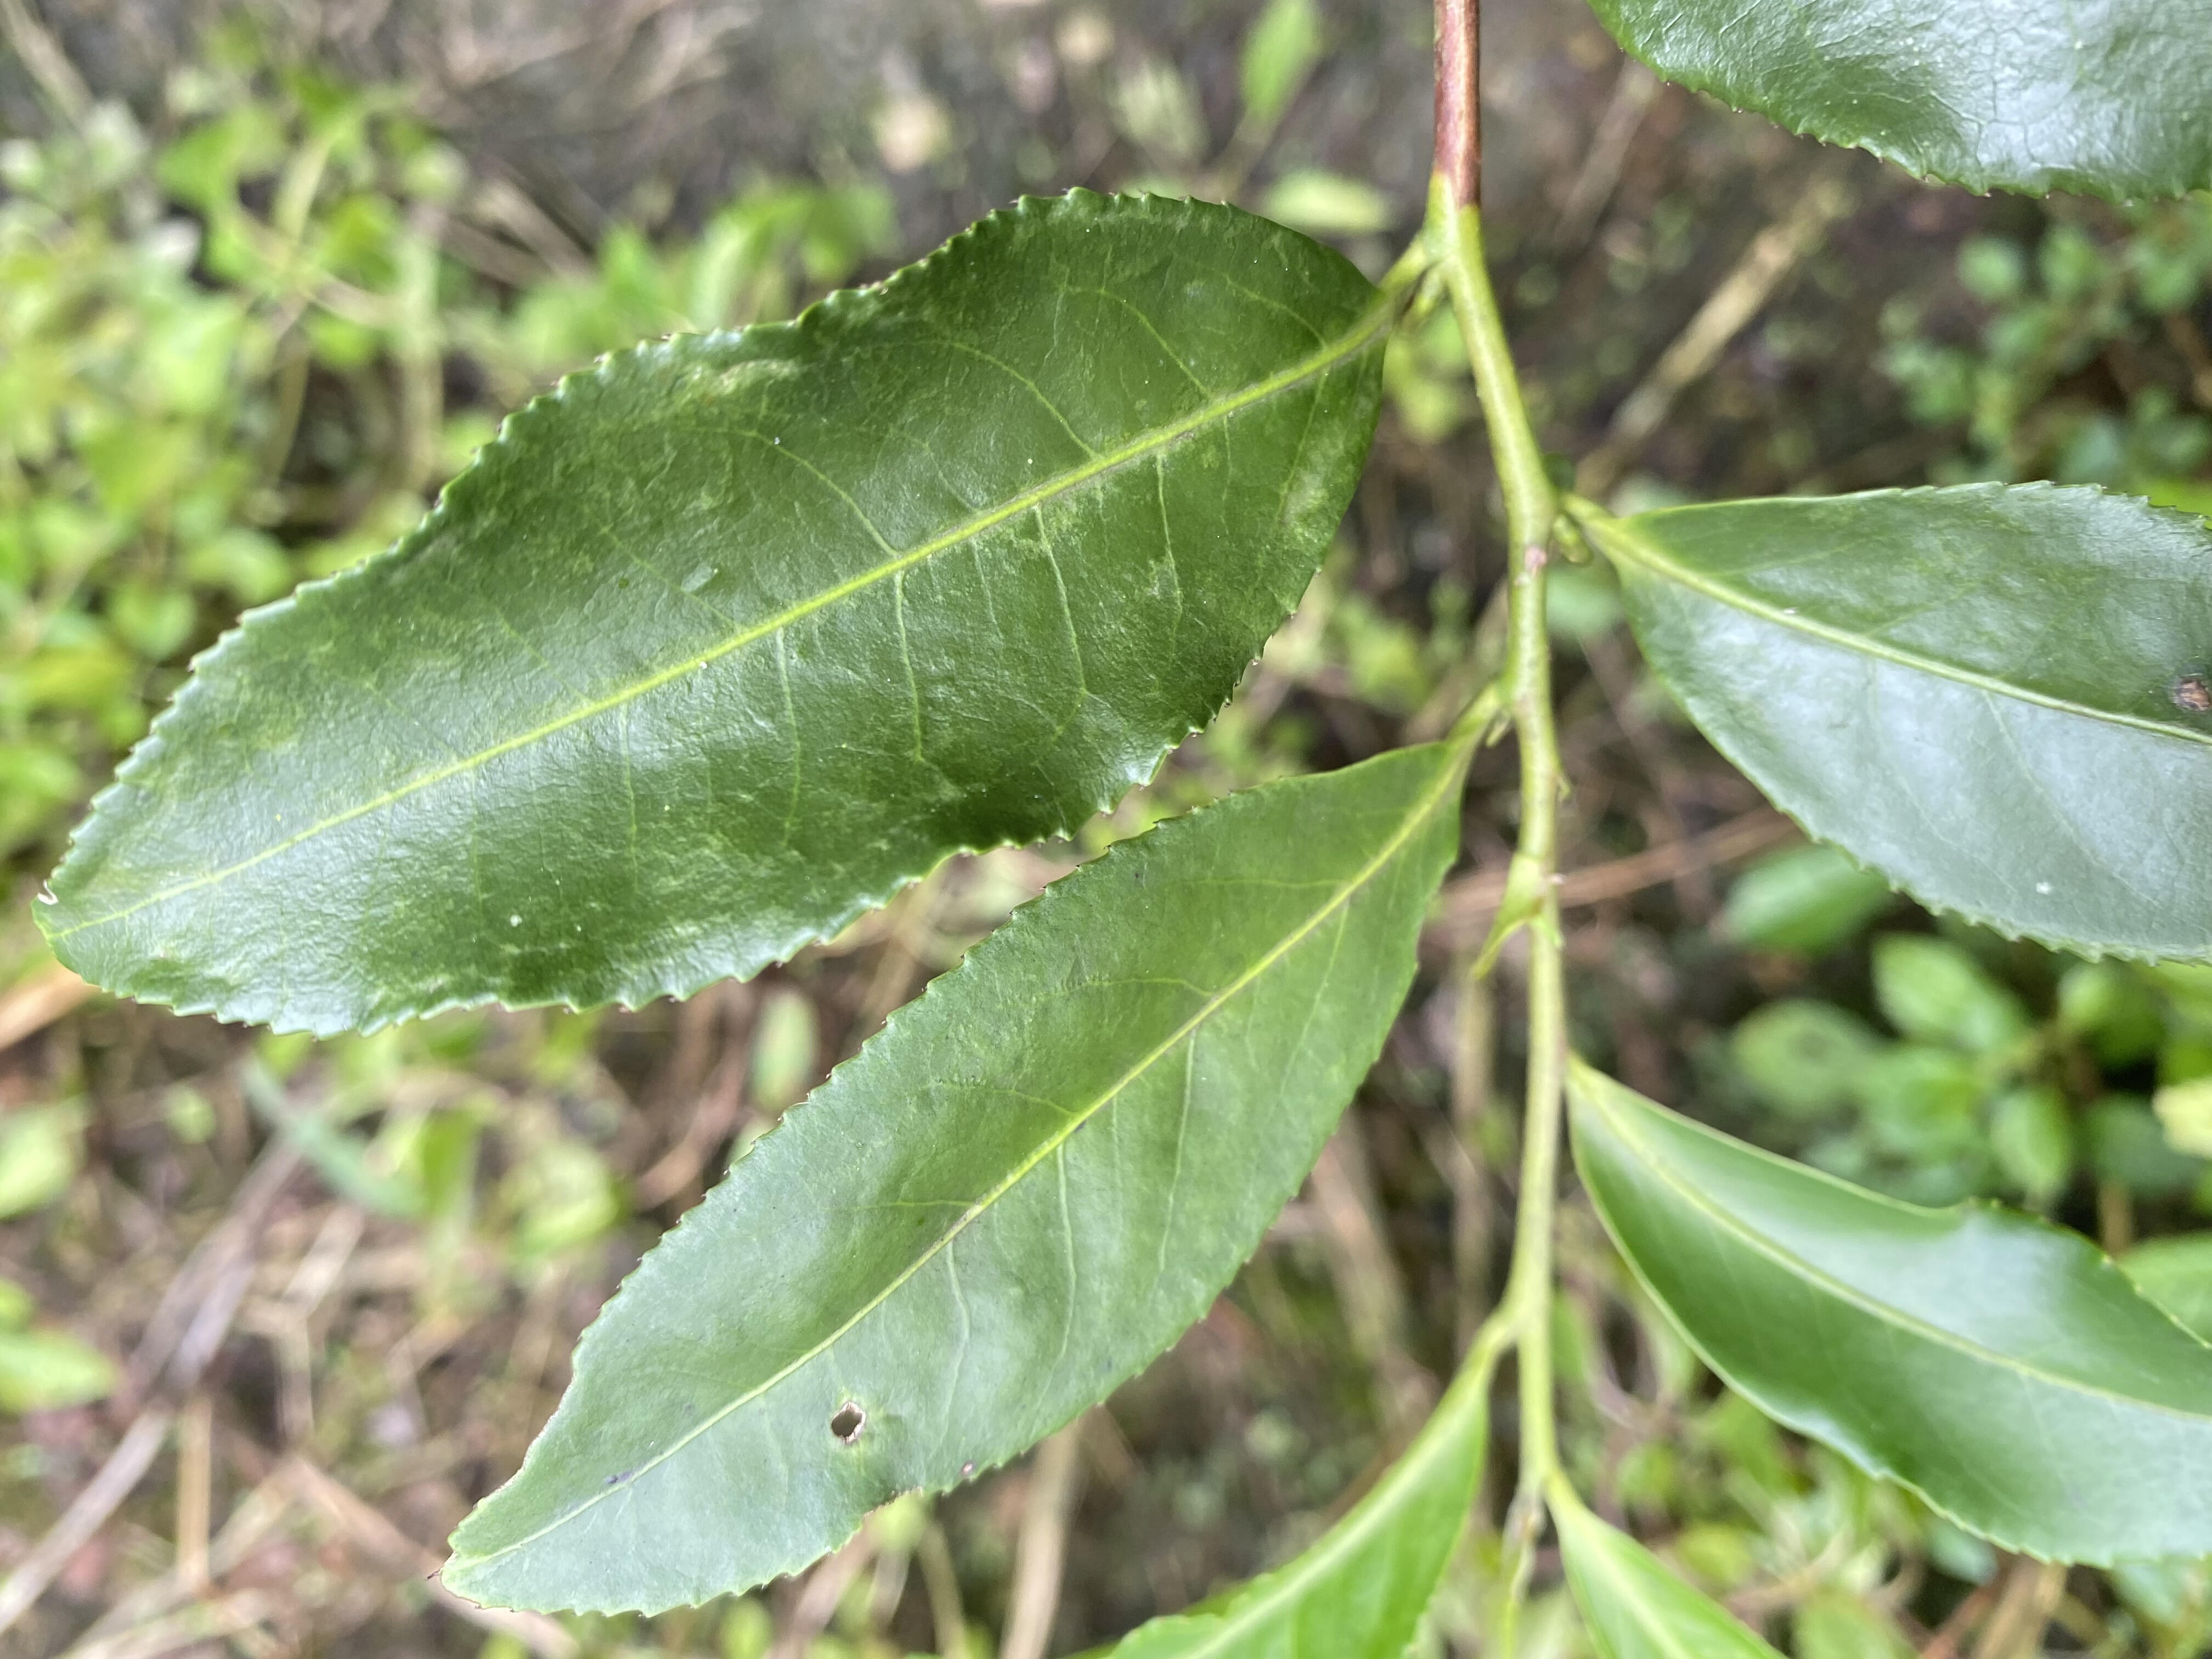chihuo_low: (444, 749, 1467, 1624)
healthy: (31, 186, 1388, 1047), (1562, 1065, 2209, 1574)
tanju_low: (1606, 477, 2210, 972)
